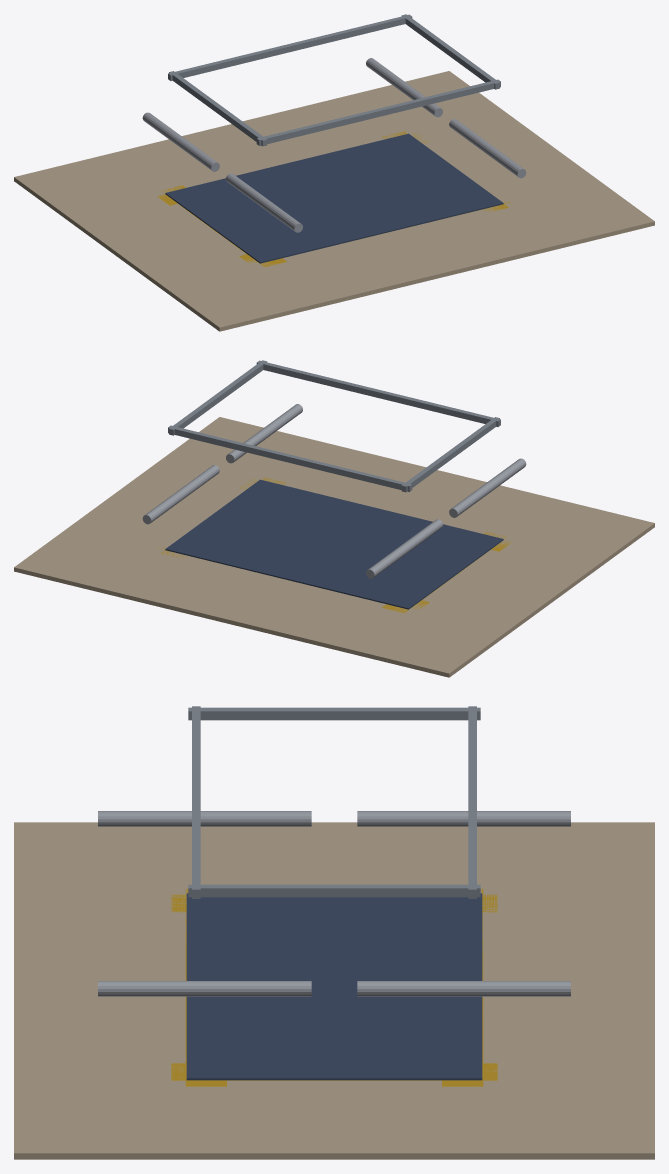
Rendered from stage_05_beams.glb.
3 renders of one model, top to bottom at view 1: azimuth 30°, elevation 25°; view 2: azimuth 150°, elevation 25°; view 3: azimuth 270°, elevation 25°, orthographic. The views are drawn at different scales.
Parts seen in each view (by area): view 1: world; view 2: world; view 3: world.
Part boxes in pixels (box(x1,y1,x2,y2)): world: box(14, 14, 654, 331); world: box(14, 360, 654, 677); world: box(14, 706, 654, 1159).
Bounding box in the file's own units: 11 × 3.74 × 9.
